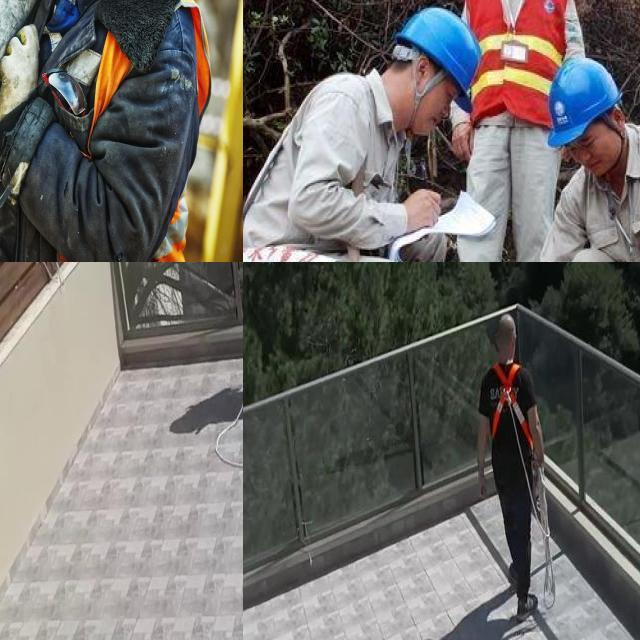Harness: (532, 467, 557, 610), (492, 363, 534, 448)
No_Ear-Protection: (411, 51, 432, 87), (611, 104, 627, 132)
No_Glasses: (580, 129, 599, 154)
face_nomask: (409, 60, 461, 137), (558, 121, 621, 183)
hand_glove: (0, 15, 42, 118)
hand_noglove: (407, 188, 448, 233), (446, 121, 475, 163)
head_helmet: (408, 7, 478, 76), (553, 61, 615, 121)
person: (0, 0, 189, 262), (299, 6, 468, 262), (466, 0, 548, 262), (553, 61, 640, 262)
vest: (45, 1, 187, 262), (479, 0, 553, 111)
